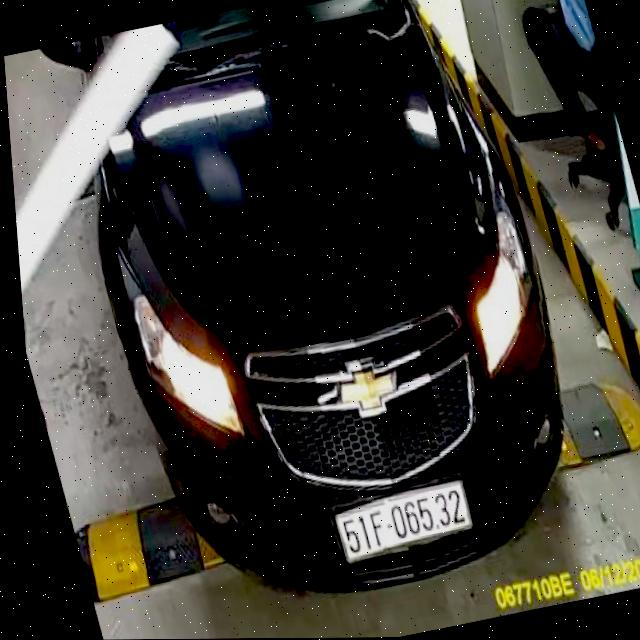car: (35, 0, 625, 639)
plate: (330, 478, 482, 565)
